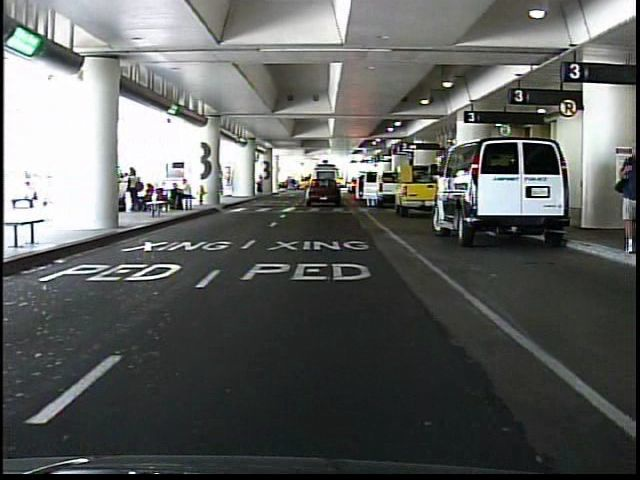person: (614, 132, 637, 255), (256, 172, 268, 197)
